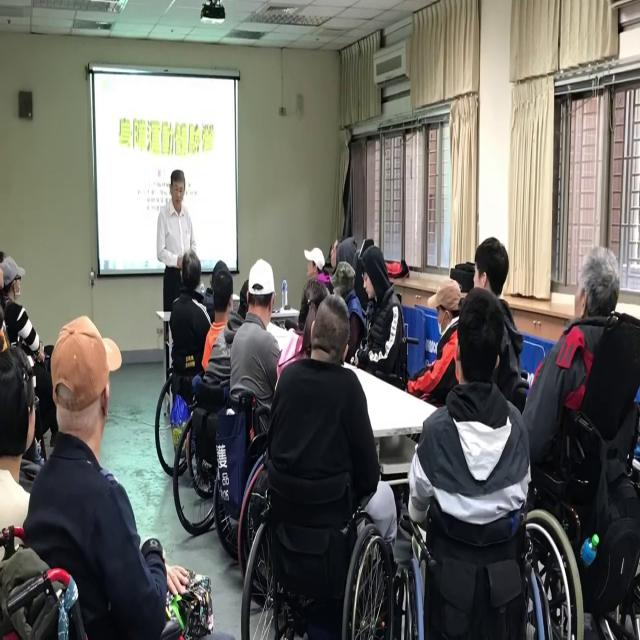wheelchairs: (234, 434, 401, 640), (383, 495, 567, 640), (174, 399, 273, 540), (149, 355, 249, 494)
